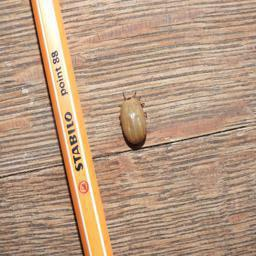Rhipicephalus sanguineus: (118, 92, 149, 149)
